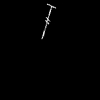treble_crochet: (42, 4, 51, 37)
